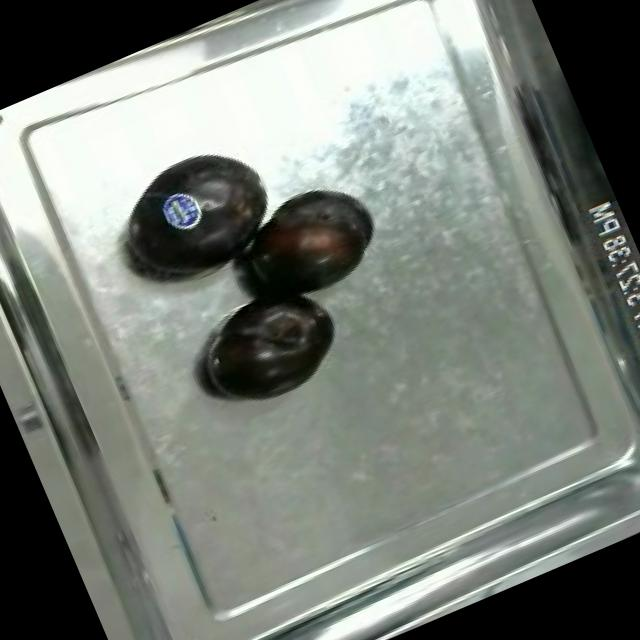Fruit: (101, 125, 298, 302), (230, 166, 393, 314), (190, 275, 356, 420)
